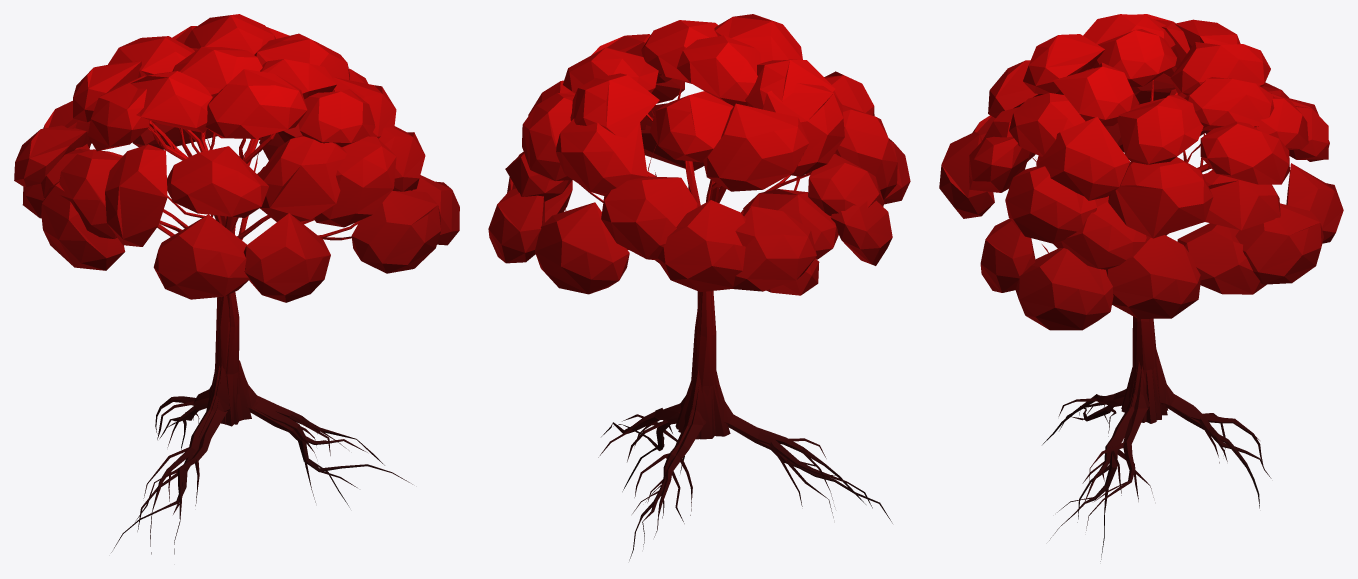
The model's file is TreeMahogany08.fbx.
3 renders of one model, left to right at view 1: azimuth 30°, elevation 25°; view 2: azimuth 150°, elevation 25°; view 3: azimuth 270°, elevation 25°, orthographic. The views are drawn at different scales.
Visible parts, largest first — view 1: TreeMahogany08_LOD0; view 2: TreeMahogany08_LOD0; view 3: TreeMahogany08_LOD0.
Part boxes in pixels (x1,y1,x2,y2): TreeMahogany08_LOD0: (14,14,459,554); TreeMahogany08_LOD0: (488,14,910,560); TreeMahogany08_LOD0: (939,14,1343,561).
Size of what is drawn, in the model's own units: 1853 by 2309 by 1777.
